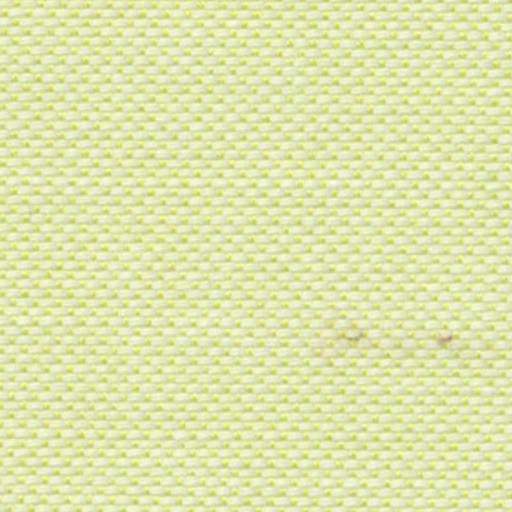WuZi: (312, 302, 481, 378)
